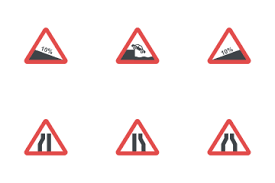Narrow_road: (206, 117, 253, 157), (115, 118, 161, 157), (23, 118, 68, 157)
